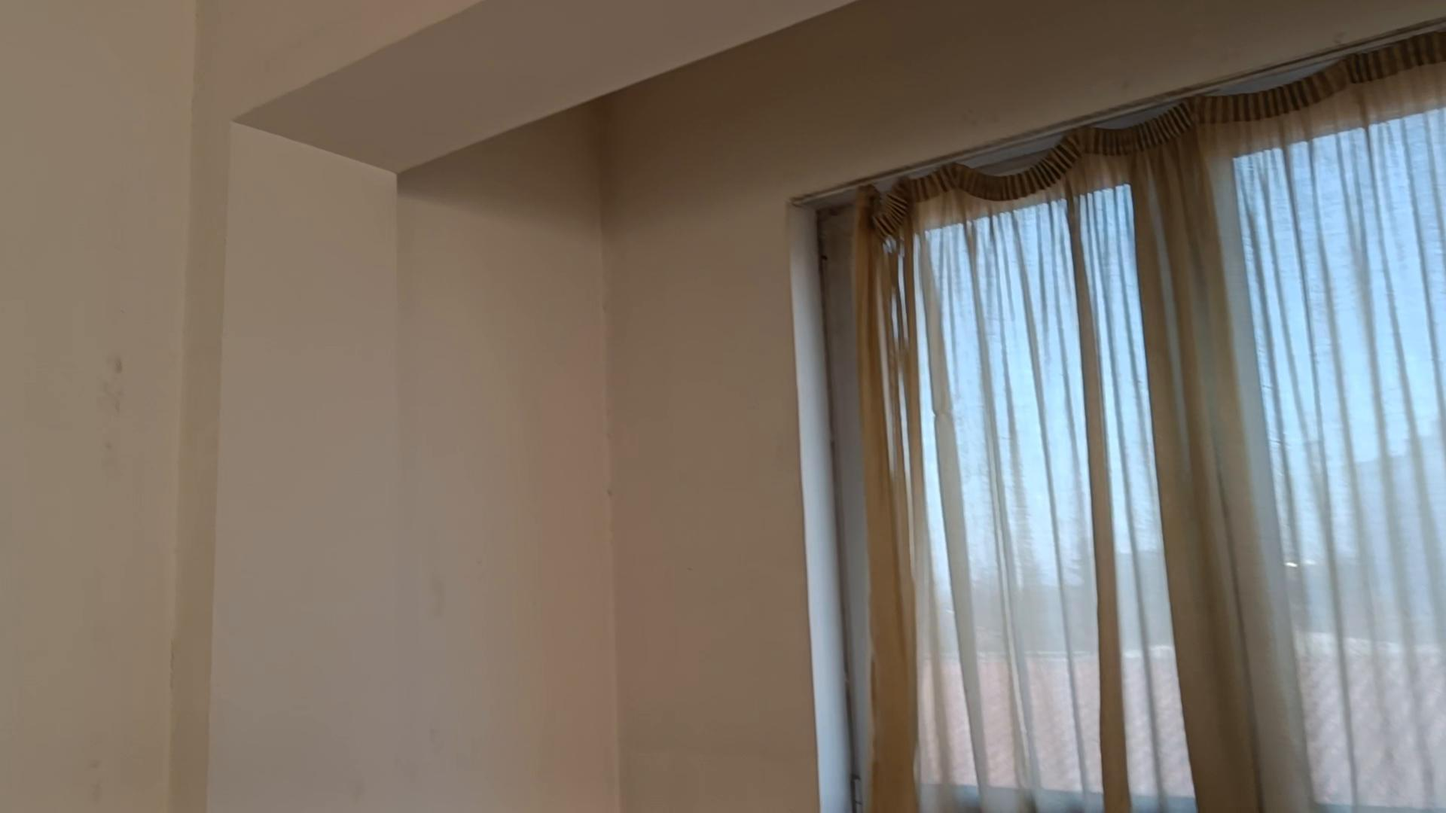ceiling: (233, 0, 868, 173), (922, 0, 1445, 117)
wall: (0, 0, 1445, 812)
